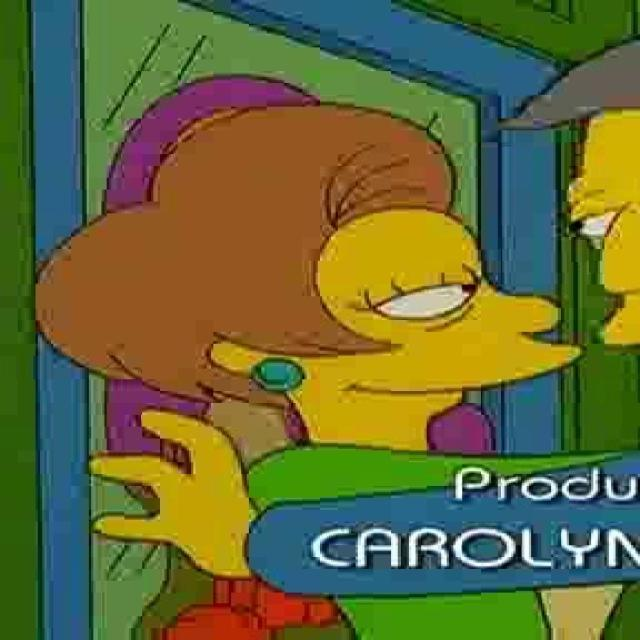Edna Krappel: (24, 99, 589, 446)
